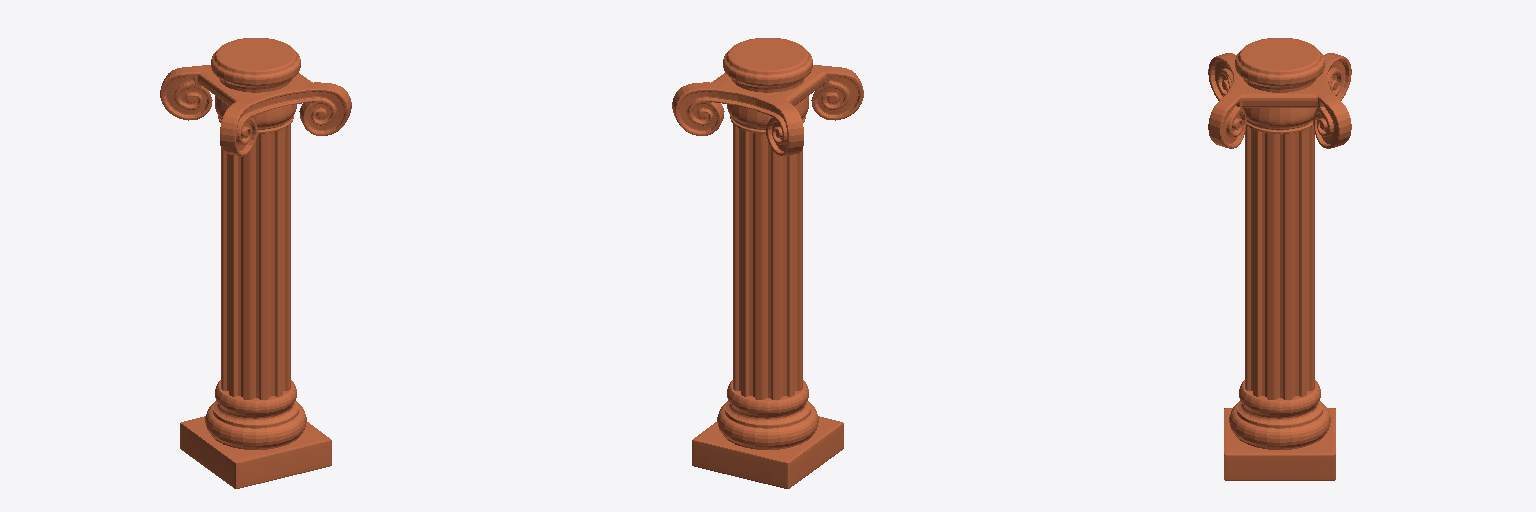
File: column1_low.obj
The picture shows the model from 3 angles: view 1: azimuth 30°, elevation 25°; view 2: azimuth 150°, elevation 25°; view 3: azimuth 270°, elevation 25°; orthographic projection.
Parts seen in each view (by area): view 1: column1_Cube.002; view 2: column1_Cube.002; view 3: column1_Cube.002.
Part boxes in pixels (x1,y1,x2,y2): column1_Cube.002: (160, 38, 351, 488); column1_Cube.002: (672, 38, 863, 488); column1_Cube.002: (1208, 38, 1351, 480).
Size of the model in its own units: 1.77 by 5.2 by 1.67.